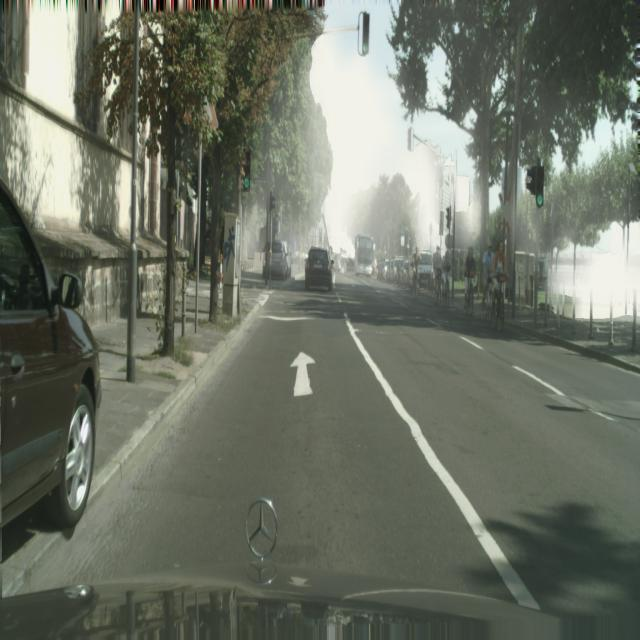car: (482, 242, 505, 332), (433, 251, 450, 307), (464, 250, 478, 316)
motorcycle: (354, 234, 376, 278)
person: (410, 251, 420, 298)
truck: (0, 179, 103, 534), (305, 246, 334, 292), (262, 239, 291, 281), (417, 252, 434, 291)
